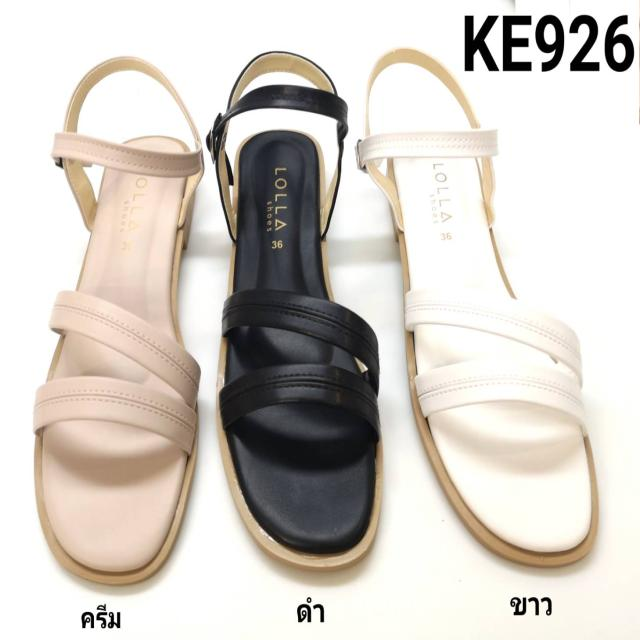black: (223, 126, 379, 572)
cream: (38, 134, 199, 581)
white: (393, 130, 592, 556)
